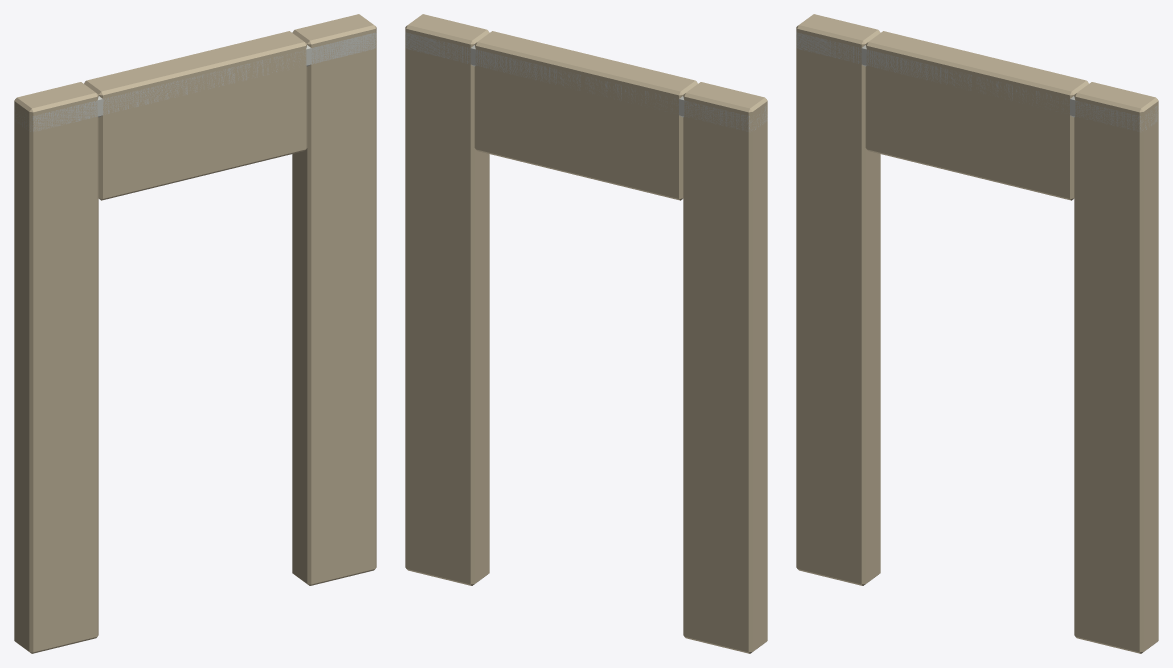
File: architecture-wall-door.lod0.glb
The picture shows the model from 3 angles, left to right: view 1: azimuth 30°, elevation 25°; view 2: azimuth 150°, elevation 25°; view 3: azimuth 330°, elevation 25°; orthographic projection.
Parts seen in each view (by area): view 1: architecture-wall-door__body; view 2: architecture-wall-door__body; view 3: architecture-wall-door__body.
Boxes of the visible parts, left/top/right/bottom form: architecture-wall-door__body: left=14, top=14, right=376, bottom=653; architecture-wall-door__body: left=405, top=14, right=767, bottom=653; architecture-wall-door__body: left=796, top=14, right=1158, bottom=653.
Size of the model in its own units: 2 by 3 by 0.18.
